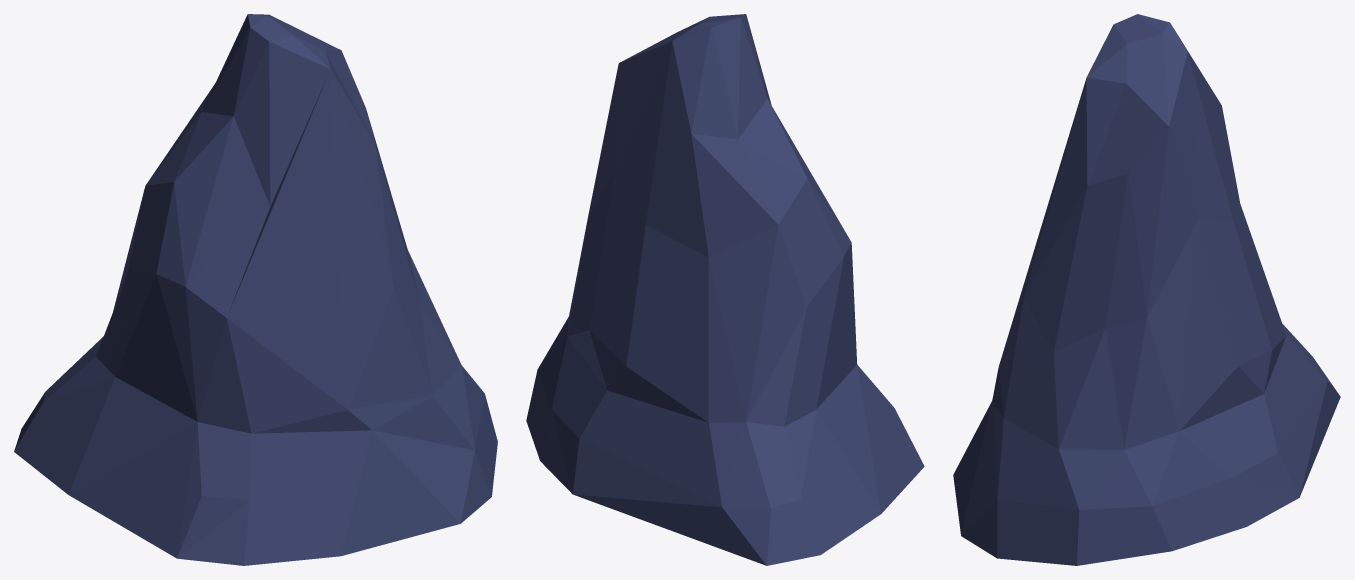
Rendered from rock-tall.fbx.
3 renders of one model, left to right at view 1: azimuth 30°, elevation 25°; view 2: azimuth 150°, elevation 25°; view 3: azimuth 270°, elevation 25°, orthographic.
Parts seen in each view (by area): view 1: Cube; view 2: Cube; view 3: Cube.
Boxes of the visible parts, x1,y1,x2,y2 form: Cube: (14,14,497,565); Cube: (526,14,924,565); Cube: (953,14,1340,565).
Bounding box in the file's own units: 237 × 276 × 210.
